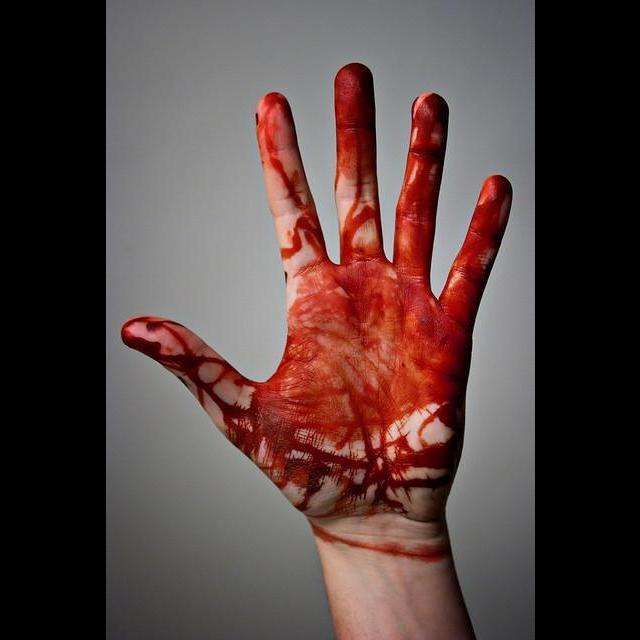blood: (121, 64, 511, 564)
